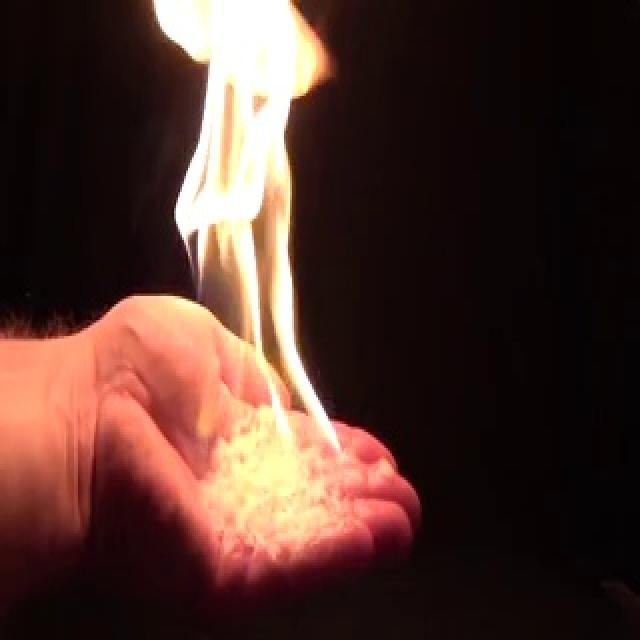fire: (151, 2, 341, 488)
